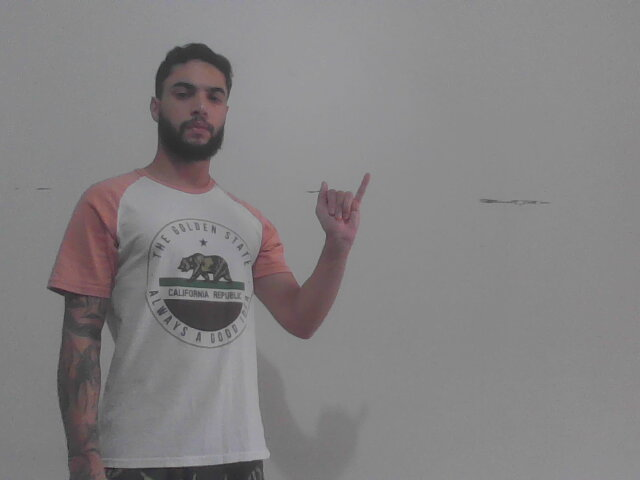i: (306, 167, 373, 259)
